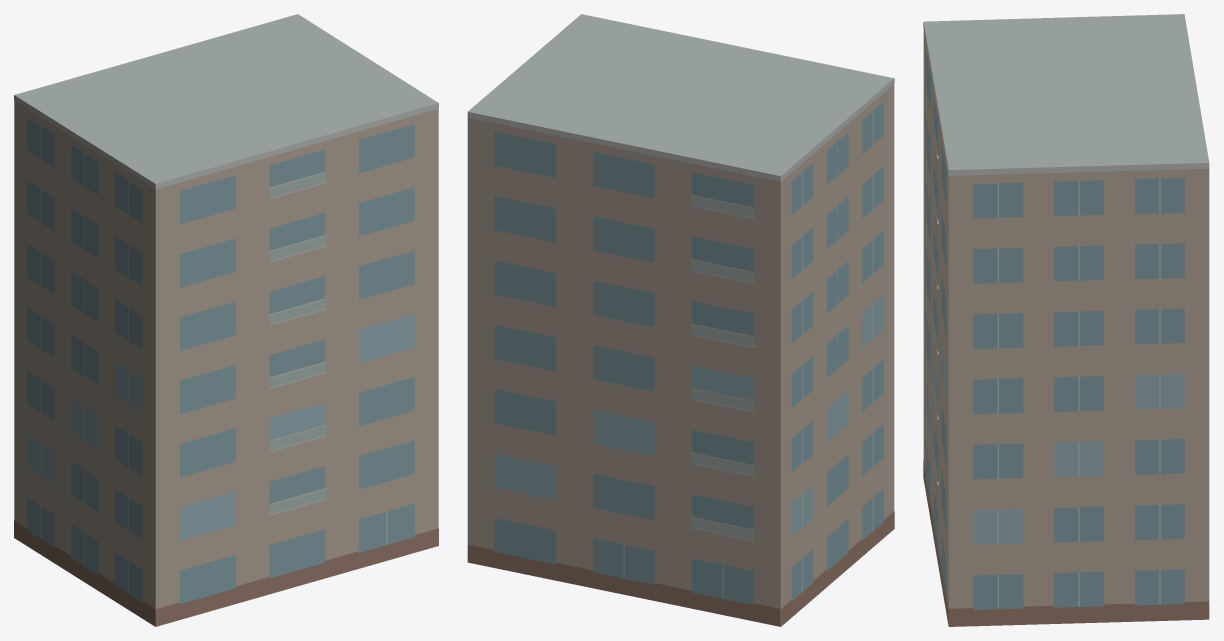
The model's file is survey-upis-32743730.glb.
3 views of the same model, side by side, from view 1: azimuth 30°, elevation 25°; view 2: azimuth 150°, elevation 25°; view 3: azimuth 270°, elevation 25° (orthographic). The views are drawn at different scales.
Visible parts, largest first — view 1: survey-upis-32743730.tmp; view 2: survey-upis-32743730.tmp; view 3: survey-upis-32743730.tmp.
Boxes of the visible parts, x1,y1,x2,y2 form: survey-upis-32743730.tmp: [14, 14, 438, 626]; survey-upis-32743730.tmp: [467, 14, 894, 626]; survey-upis-32743730.tmp: [923, 14, 1209, 626].
Bounding box in the file's own units: 14.16 × 19.3 × 10.96.
